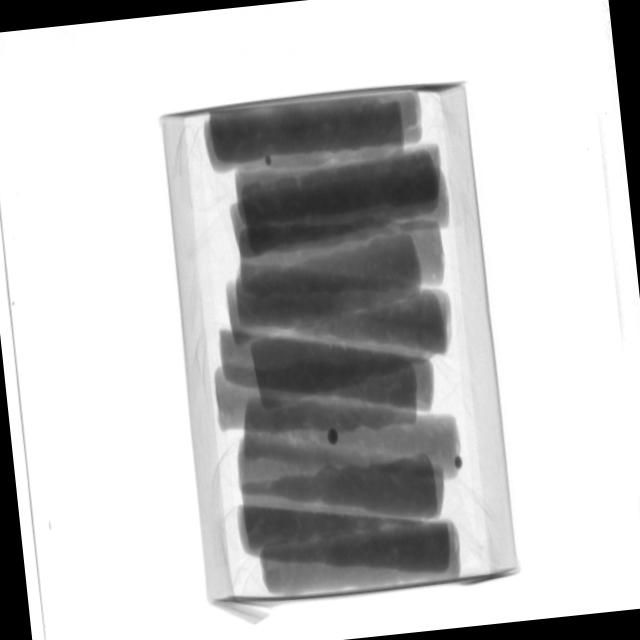ym: (327, 428, 339, 445), (455, 456, 465, 467), (265, 156, 274, 166)
